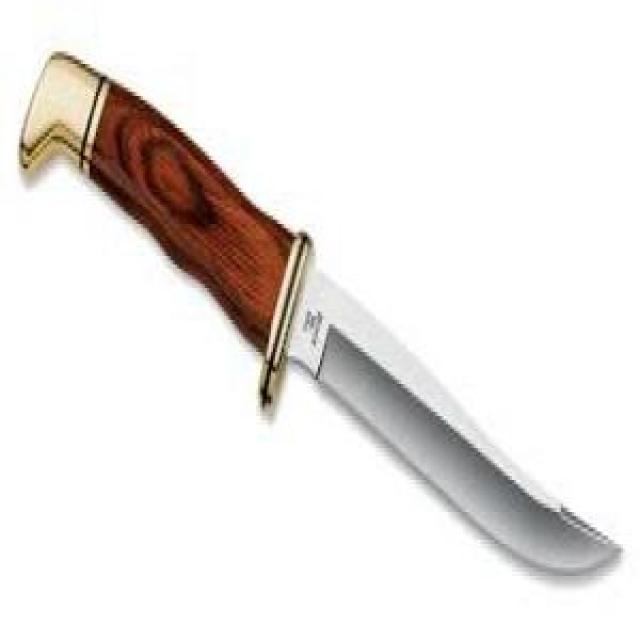knife: (19, 43, 623, 596)
